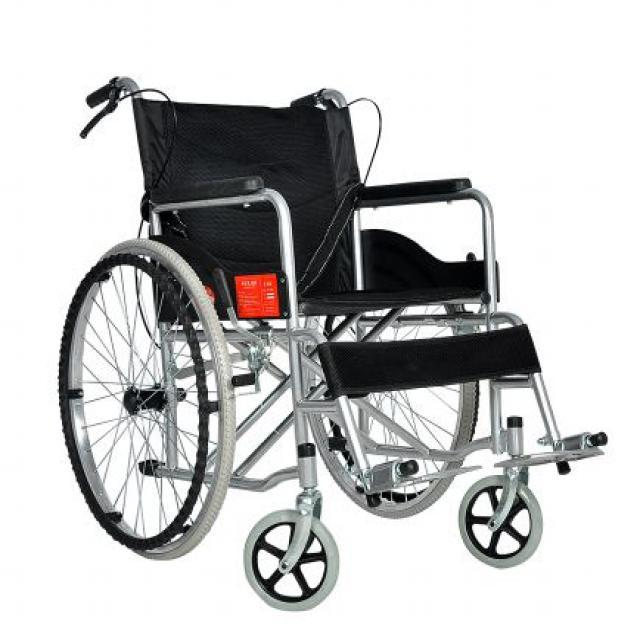wheelchair: (51, 56, 638, 611)
